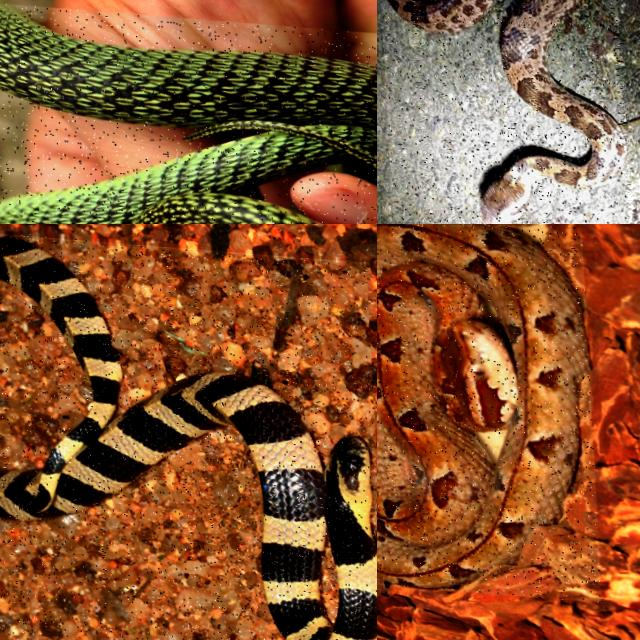Bungarus fasciatus: (0, 231, 376, 639)
Calloselasma rhodostoma: (377, 224, 590, 588)
Chrysopelea ornata: (0, 3, 376, 223)
Ovophis monticola: (481, 0, 625, 223)
